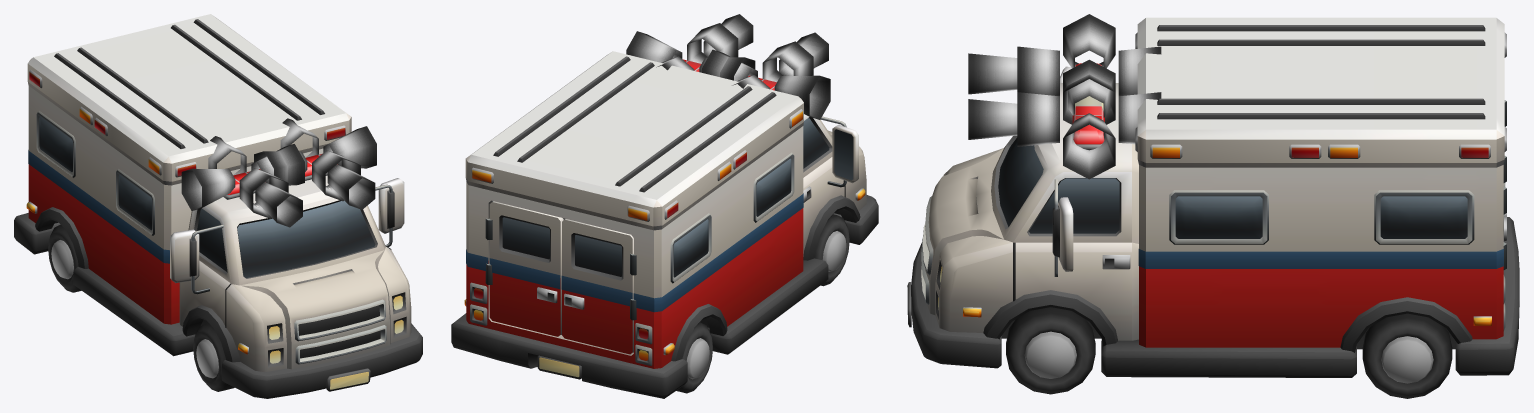
The model's file is Car_9A.fbx.
3 renders of one model, left to right at view 1: azimuth 30°, elevation 25°; view 2: azimuth 150°, elevation 25°; view 3: azimuth 270°, elevation 25°, orthographic. The views are drawn at different scales.
Parts seen in each view (by area): view 1: Car_9A, Light_Red_1.001, Light_Red.004, Wheel_9A_F.R, Wheel_9A_R.R; view 2: Car_9A, Door_9A_R.L, Door_9A_R.R, Light_Red_1.001, Light_Red.004, Wheel_9A_F.R, Wheel_9A_R.R; view 3: Car_9A, Light_Red.004, Light_Red_1.001, Wheel_9A_F.L, Wheel_9A_R.L.
Part boxes in pixels (x1=…): Car_9A: x1=14, y1=14, x2=422, y2=398; Light_Red_1.001: x1=181, y1=136, x2=304, y2=227; Light_Red.004: x1=254, y1=118, x2=376, y2=209; Wheel_9A_F.R: x1=193, y1=323, x2=234, y2=391; Wheel_9A_R.R: x1=48, y1=224, x2=81, y2=292; Car_9A: x1=451, y1=51, x2=878, y2=398; Door_9A_R.L: x1=485, y1=201, x2=563, y2=336; Door_9A_R.R: x1=561, y1=219, x2=636, y2=354; Light_Red_1.001: x1=702, y1=32, x2=830, y2=119; Light_Red.004: x1=626, y1=14, x2=755, y2=80; Wheel_9A_F.R: x1=814, y1=214, x2=849, y2=286; Wheel_9A_R.R: x1=676, y1=322, x2=712, y2=393; Car_9A: x1=907, y1=17, x2=1519, y2=377; Light_Red.004: x1=968, y1=59, x2=1161, y2=179; Light_Red_1.001: x1=968, y1=14, x2=1161, y2=124; Wheel_9A_F.L: x1=1006, y1=307, x2=1095, y2=394; Wheel_9A_R.L: x1=1362, y1=313, x2=1452, y2=398.
Size of the model in its own units: 309 by 268 by 544.
